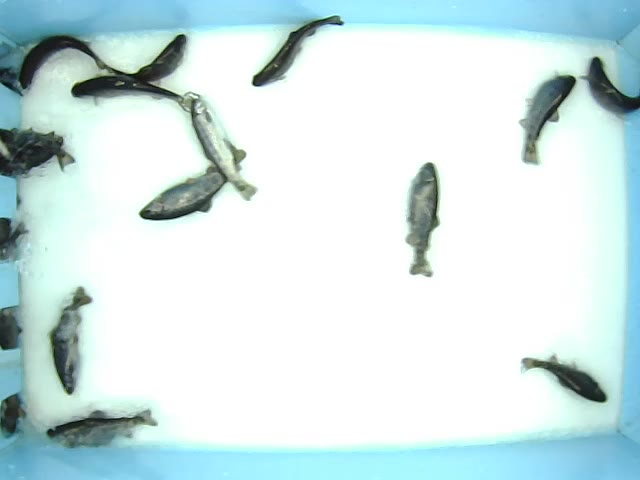fish: (138, 147, 247, 223), (191, 98, 260, 203), (251, 14, 345, 87), (518, 71, 577, 167), (46, 285, 94, 395), (17, 34, 107, 91), (45, 407, 159, 450), (71, 76, 200, 113), (404, 158, 442, 279), (520, 353, 611, 403), (107, 32, 188, 82)
